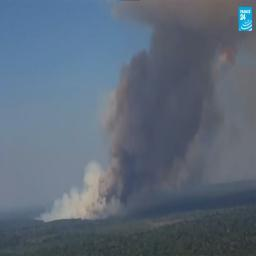Low smoke: (30, 0, 239, 219)
